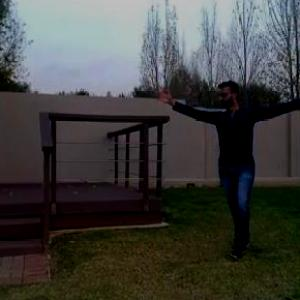takeoff: (152, 77, 299, 262)
